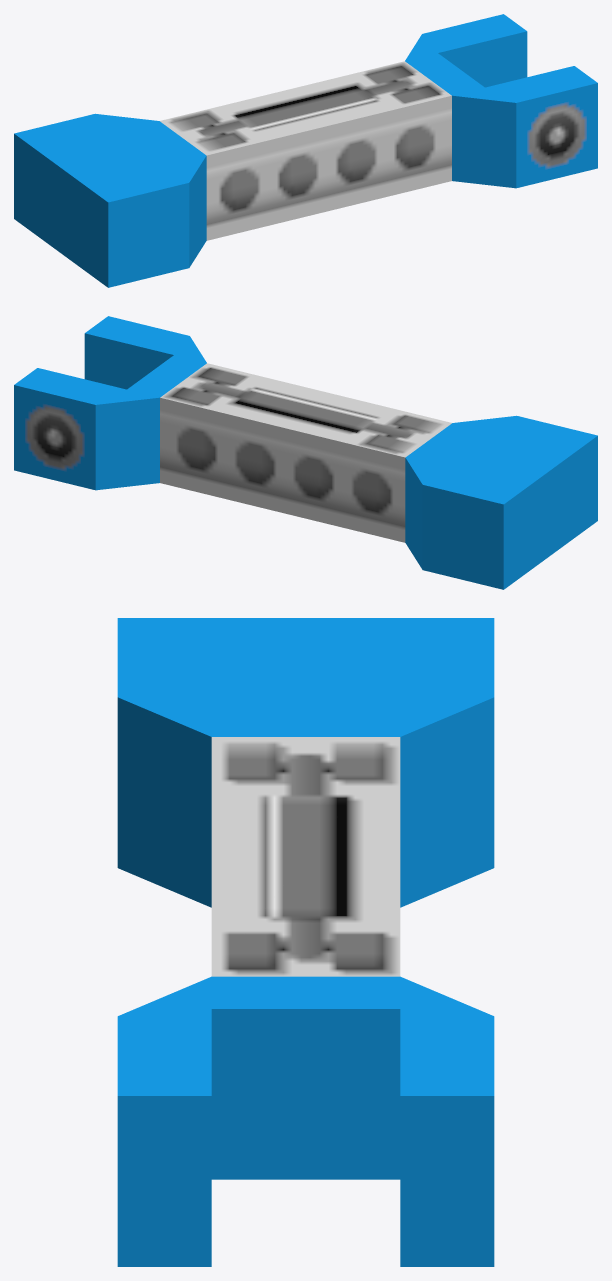
Rendered from lem2.obj.
3 views of the same model, one above another, from view 1: azimuth 30°, elevation 25°; view 2: azimuth 150°, elevation 25°; view 3: azimuth 270°, elevation 25° (orthographic). The views are drawn at different scales.
Visible parts, largest first — view 1: ColobotMesh_1_ColobotMesh_; view 2: ColobotMesh_1_ColobotMesh_; view 3: ColobotMesh_1_ColobotMesh_.
Part boxes in pixels (x1,y1,x2,y2): ColobotMesh_1_ColobotMesh_: [14, 14, 597, 287]; ColobotMesh_1_ColobotMesh_: [14, 316, 597, 589]; ColobotMesh_1_ColobotMesh_: [117, 618, 494, 1266].
Size of the model in its own units: 6 by 1 by 2.
